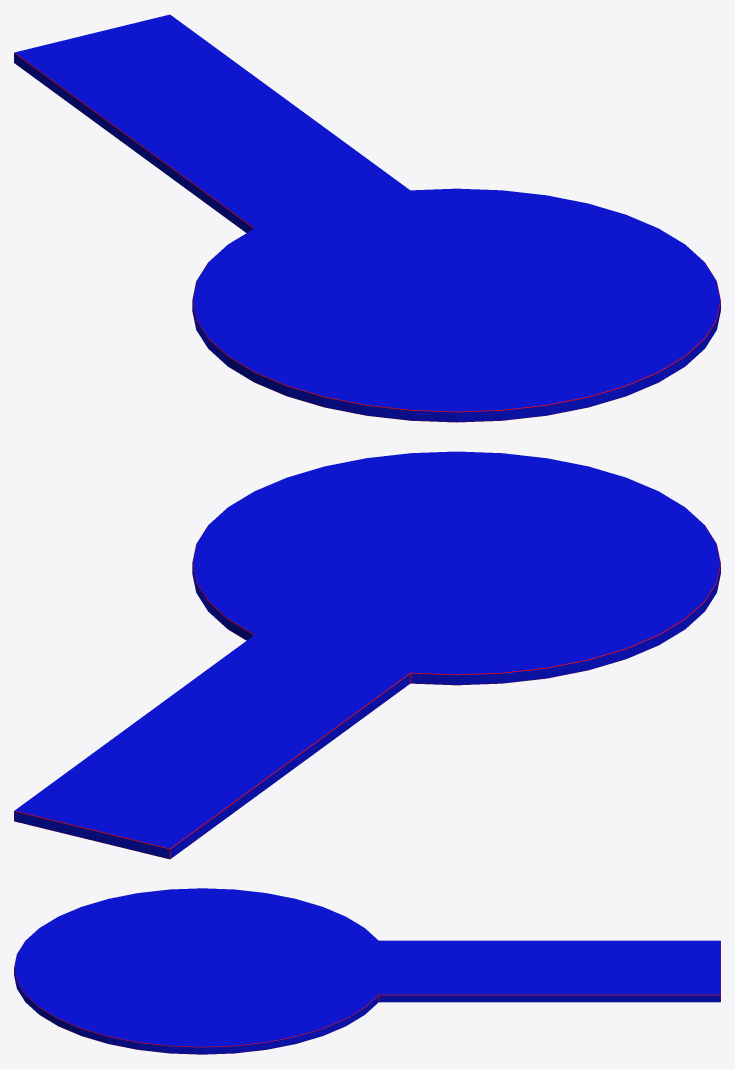
The model's file is L3_Pipe_End.fbx.
3 renders of one model, top to bottom at view 1: azimuth 30°, elevation 25°; view 2: azimuth 150°, elevation 25°; view 3: azimuth 270°, elevation 25°, orthographic. The views are drawn at different scales.
Parts seen in each view (by area): view 1: L3_Pipe_End; view 2: L3_Pipe_End; view 3: L3_Pipe_End.
Part boxes in pixels (x1,y1,x2,y2): L3_Pipe_End: (14,14,720,422); L3_Pipe_End: (14,451,720,859); L3_Pipe_End: (14,888,720,1054).
Bounding box in the file's own units: 4400 × 100 × 8267.
